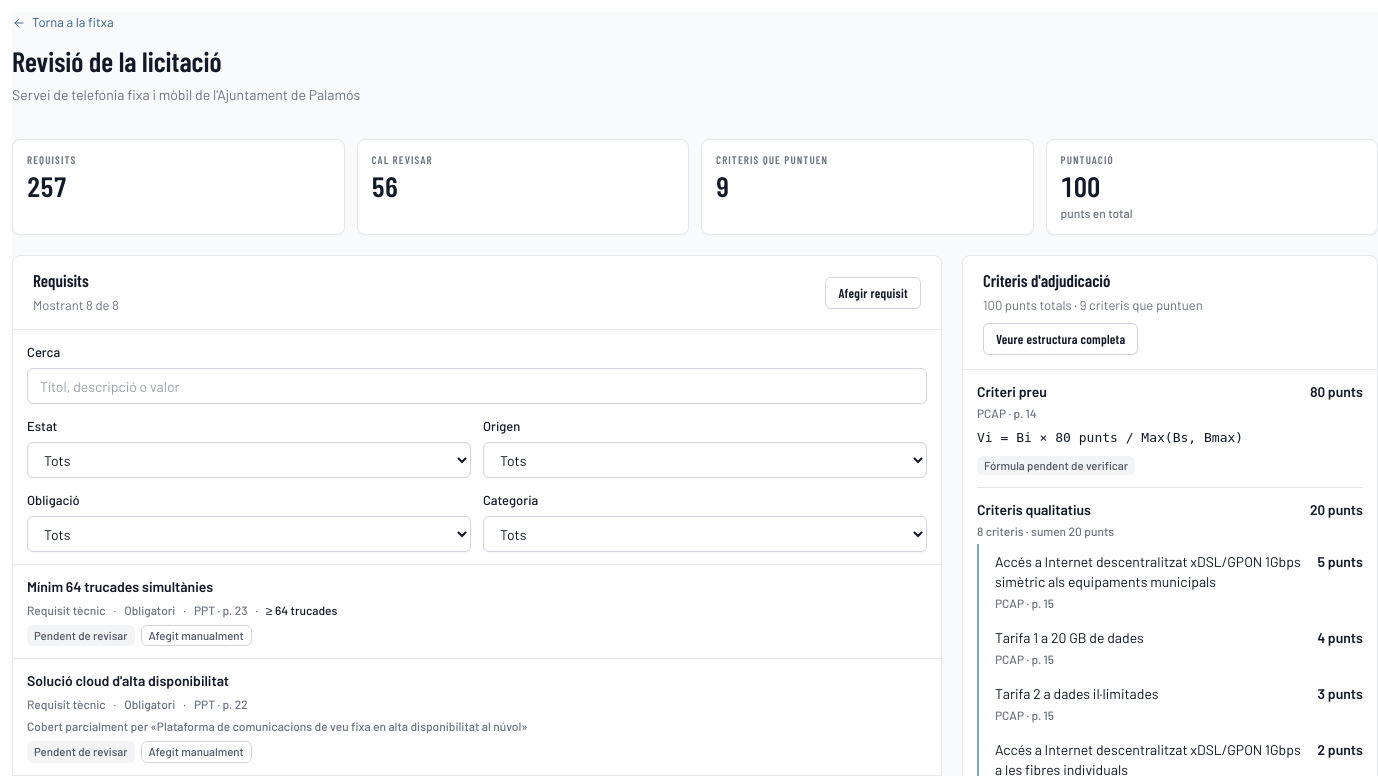
Scenario: Revisió de la licitació › «Veure estructura completa» mostra les 23 files i el que no compta
What coordinates should you click on to do the following:
click the button "Veure estructura completa"
I would click on:
 (1061, 339)
Its box is [983,323,1138,355].
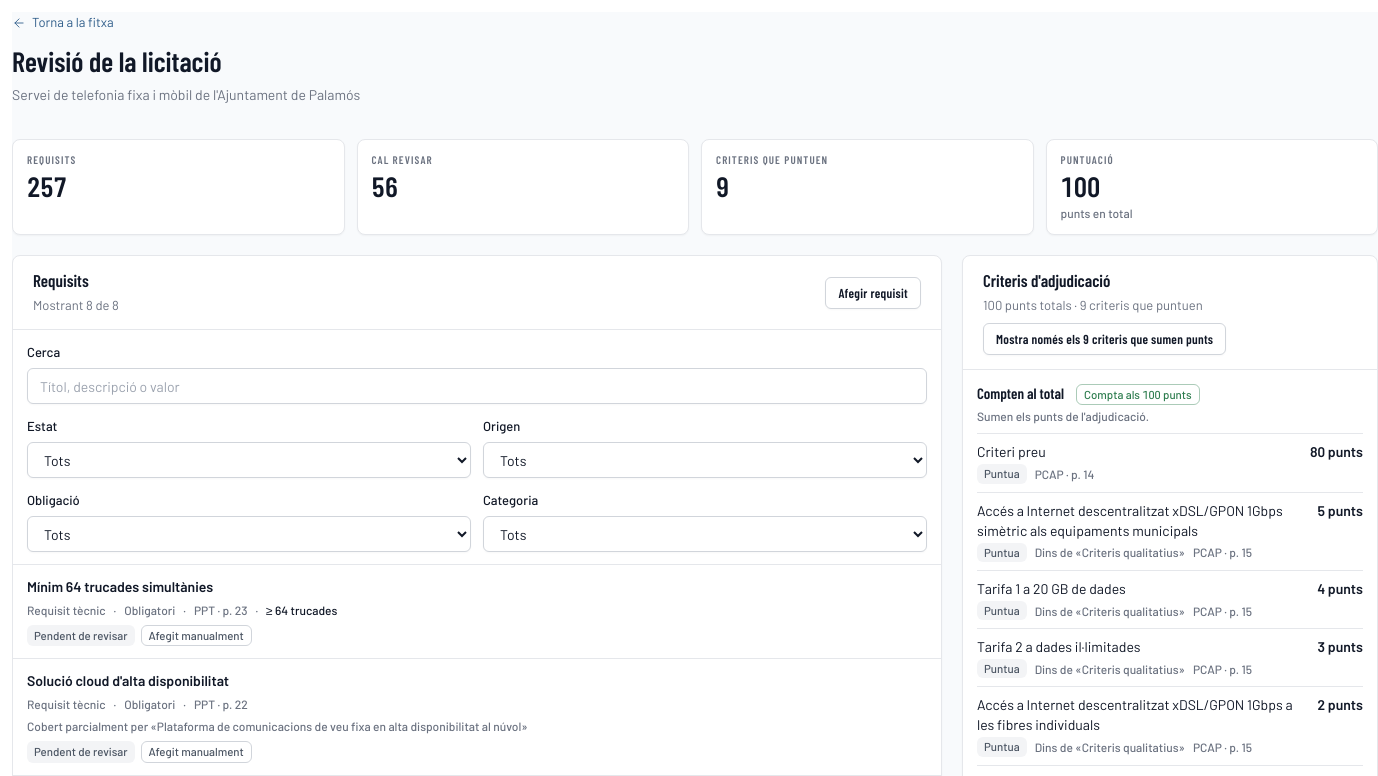
Result: the text "Compta als 100 punts" is shown at [1076,384,1200,406]
